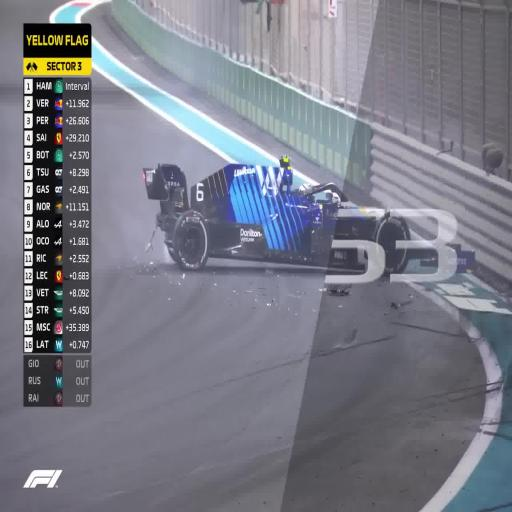f1_car: (143, 156, 411, 273), (416, 253, 428, 256), (431, 251, 435, 256), (457, 247, 459, 256), (430, 254, 431, 256), (151, 237, 152, 239)
